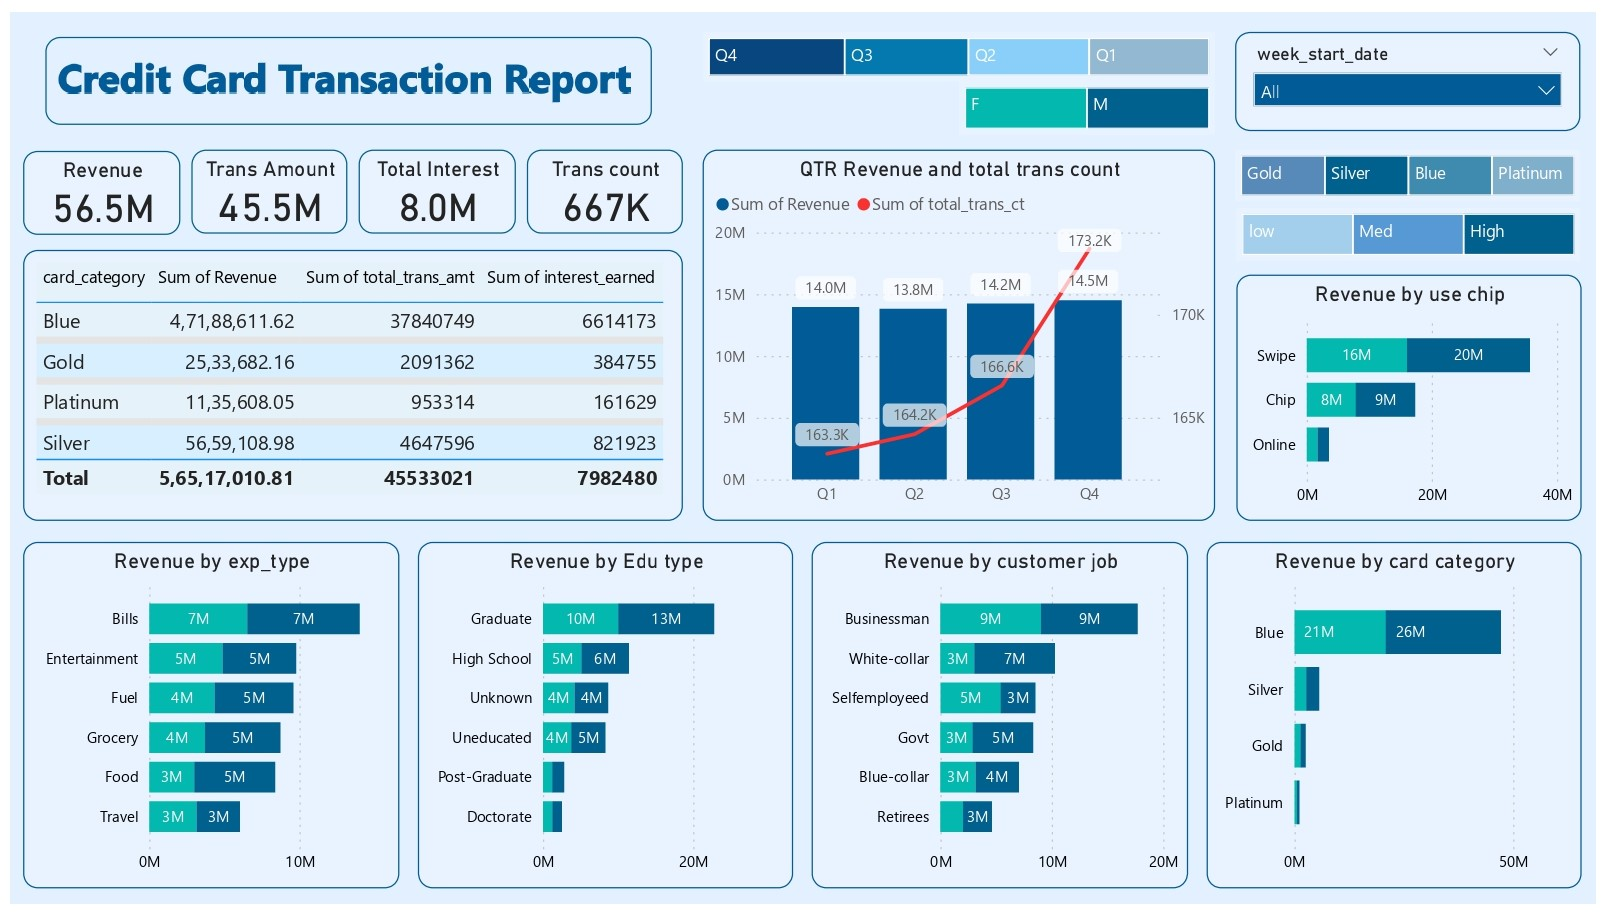

Layout of this report page (visuals, bound fields, positions):
{"tool":"powerbi","page":{"name":"Credit Card Weekly Report","canvas":[1280,720],"ordinal":0},"visuals":[{"type":"textbox","box":[28,20.2,489.5,70.6],"z":0},{"type":"lineStackedColumnComboChart","title":"QTR Revenue and total trans count","fields":{"Category":["public cc_details.qtr"],"Y":["Sum(public cc_details.Revenue)"],"Y2":["Sum(public cc_details.total_trans_ct)"]},"box":[558.9,110.9,414.5,300.2],"z":1000},{"type":"barChart","title":" Revenue by exp_type","fields":{"Category":["public cc_details.exp_type"],"Y":["Sum(public cc_details.Revenue)"],"Series":["public cust_details.gender"]},"box":[10.1,427.9,303.6,280],"z":2000},{"type":"barChart","title":" Revenue by Edu type","fields":{"Y":["Sum(public cc_details.Revenue)"],"Category":["public cust_details.education_level"],"Series":["public cust_details.gender"]},"box":[328.6,427.9,303.6,280],"z":3000},{"type":"barChart","title":" Revenue by customer job","fields":{"Y":["Sum(public cc_details.Revenue)"],"Category":["public cust_details.customer_job"],"Series":["public cust_details.gender"]},"box":[647.1,427.9,303.6,280],"z":4000},{"type":"barChart","title":" Revenue by card category","fields":{"Y":["Sum(public cc_details.Revenue)"],"Category":["public cc_details.card_category"],"Series":["public cust_details.gender"]},"box":[965.6,427.9,303.6,280],"z":5000},{"type":"barChart","title":" Revenue by use chip","fields":{"Category":["public cc_details.use_chip"],"Y":["Sum(public cc_details.Revenue)"],"Series":["public cust_details.gender"]},"box":[990.2,211.7,278.9,199.4],"z":6000},{"type":"tableEx","fields":{"Values":["public cc_details.card_category","Sum(public cc_details.Revenue)","Sum(public cc_details.total_trans_amt)","Sum(public cc_details.interest_earned)"]},"box":[10.1,191.5,533.2,219.5],"z":7000},{"type":"card","title":"Revenue","fields":{"Values":["Sum(public cc_details.Revenue)"]},"box":[10.1,112,126.6,68.3],"z":8000},{"type":"card","title":"Trans Amount","fields":{"Values":["Sum(public cc_details.total_trans_amt)"]},"box":[145.6,110.9,126.6,68.3],"z":9000},{"type":"card","title":"Total Interest","fields":{"Values":["Sum(public cc_details.interest_earned)"]},"box":[281.2,110.9,126.6,68.3],"z":10000},{"type":"card","title":"Trans count","fields":{"Values":["Sum(public cc_details.total_trans_ct)"]},"box":[416.7,110.9,126.6,68.3],"z":11000},{"type":"slicer","fields":{"Values":["public cc_details.week_start_date"]},"box":[989.1,15.7,278.9,80.6],"z":12000},{"type":"treemap","fields":{"Group":["public cc_details.qtr"],"Values":["Avg(public cc_details.client_num)"]},"box":[558.9,15.7,414.5,40.3],"z":13000},{"type":"treemap","fields":{"Group":["public cust_details.gender"],"Values":["Avg(public cc_details.client_num)"]},"box":[766.2,56,207.2,42.6],"z":14000},{"type":"treemap","fields":{"Group":["public cc_details.card_category"],"Values":["Avg(public cc_details.client_num)"]},"box":[989.1,110.9,278.9,42.6],"z":15000},{"type":"treemap","fields":{"Group":["public cust_details.IncomeGroup"],"Values":["Avg(public cc_details.client_num)"]},"box":[990.2,157.9,277.8,42.6],"z":16000}]}

Visuals, with their boxes in screenshot pixels (x1, y1, x2, y2), scaled from the page's 1280x720 canvas onto the 1605x914 screenshot:
textbox: locate(35, 26, 649, 115)
"QTR Revenue and total trans count" lineStackedColumnComboChart: locate(701, 141, 1221, 522)
" Revenue by exp_type" barChart: locate(13, 543, 393, 899)
" Revenue by Edu type" barChart: locate(412, 543, 793, 899)
" Revenue by customer job" barChart: locate(811, 543, 1192, 899)
" Revenue by card category" barChart: locate(1211, 543, 1591, 899)
" Revenue by use chip" barChart: locate(1242, 269, 1591, 522)
tableEx - public cc_details.card_category x Sum(public cc_details.Revenue): locate(13, 243, 681, 522)
"Revenue" card: locate(13, 142, 171, 229)
"Trans Amount" card: locate(183, 141, 341, 227)
"Total Interest" card: locate(353, 141, 511, 227)
"Trans count" card: locate(523, 141, 681, 227)
slicer - public cc_details.week_start_date: locate(1240, 20, 1590, 122)
treemap - public cc_details.qtr x Avg(public cc_details.client_num): locate(701, 20, 1221, 71)
treemap - public cust_details.gender x Avg(public cc_details.client_num): locate(961, 71, 1221, 125)
treemap - public cc_details.card_category x Avg(public cc_details.client_num): locate(1240, 141, 1590, 195)
treemap - public cust_details.IncomeGroup x Avg(public cc_details.client_num): locate(1242, 200, 1590, 255)
